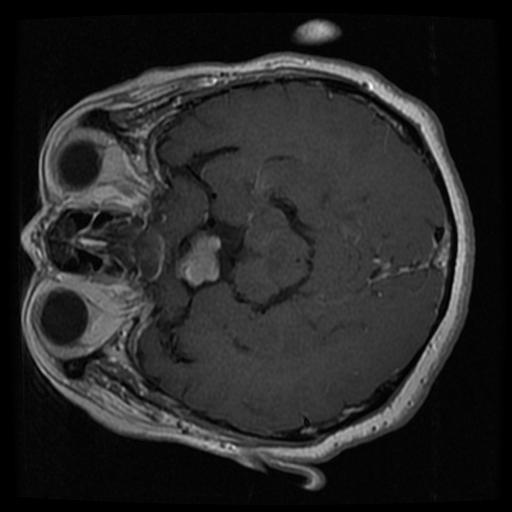pituitary tumour: (181, 234, 220, 286)
